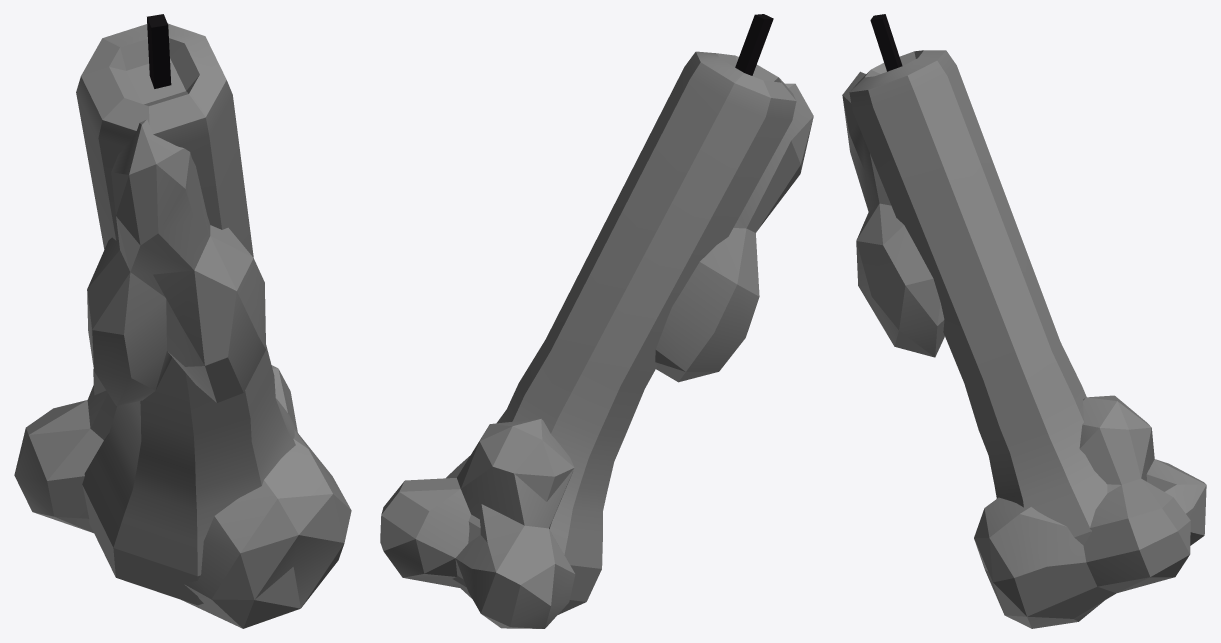
Rendered from ea_candle_01c_pre_6_lev1.glb.
The picture shows the model from 3 angles, left to right: view 1: azimuth 30°, elevation 25°; view 2: azimuth 150°, elevation 25°; view 3: azimuth 270°, elevation 25°; orthographic projection. The views are drawn at different scales.
Parts seen in each view (by area): view 1: ea_candle_01c_pre_6_lev1; view 2: ea_candle_01c_pre_6_lev1; view 3: ea_candle_01c_pre_6_lev1.
Boxes of the visible parts, x1,y1,x2,y2 form: ea_candle_01c_pre_6_lev1: [14, 14, 351, 628]; ea_candle_01c_pre_6_lev1: [380, 14, 813, 628]; ea_candle_01c_pre_6_lev1: [842, 14, 1206, 628].
Size of the model in its own units: 0.487 by 0.939 by 0.5839.
Materials: 1 (1 with a texture image).
